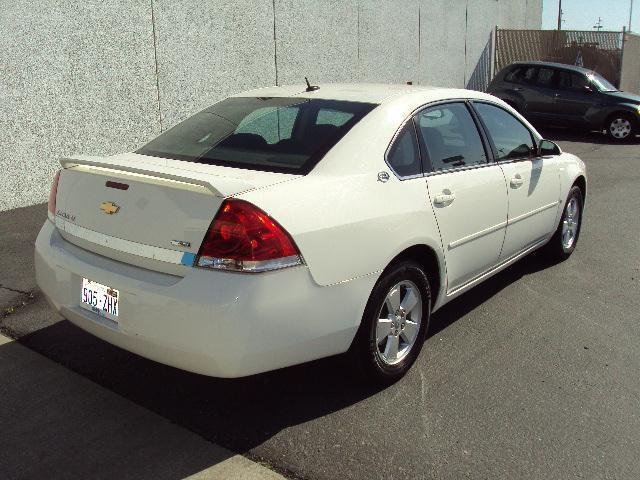car: (22, 59, 592, 392), (489, 27, 640, 141)
